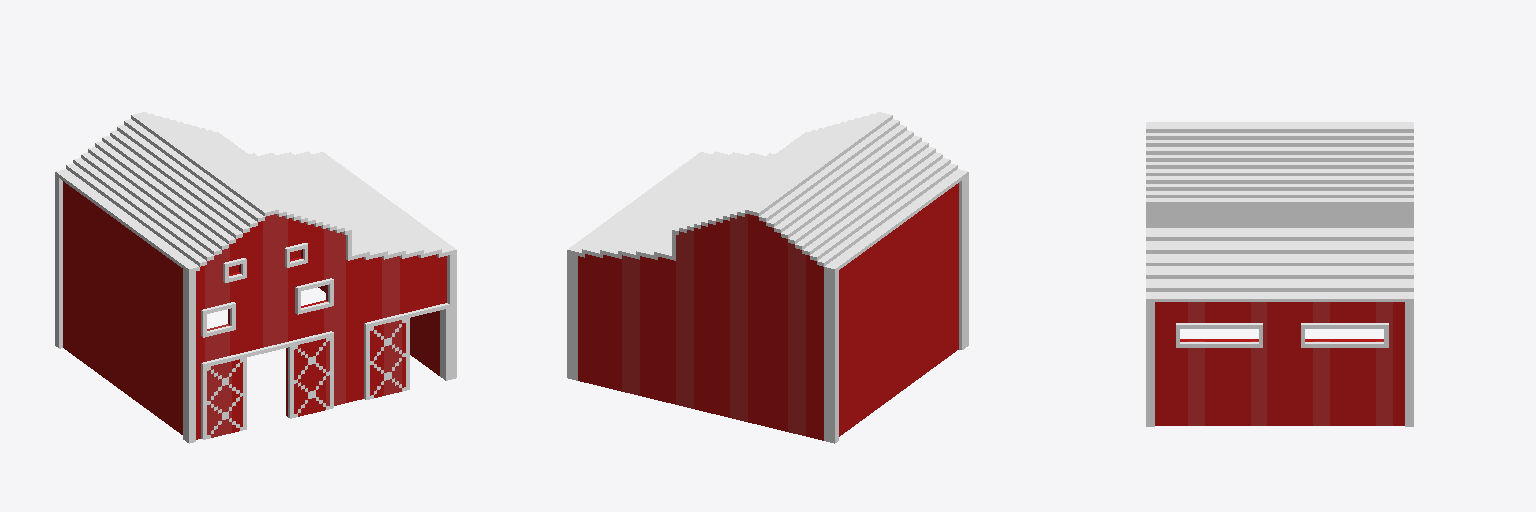
3 renders of one model, left to right at view 1: azimuth 30°, elevation 25°; view 2: azimuth 150°, elevation 25°; view 3: azimuth 270°, elevation 25°, orthographic.
Visible parts, largest first — view 1: bodega; view 2: bodega; view 3: bodega.
Part boxes in pixels (bbox=[...]): bodega: bbox=[55, 112, 456, 443]; bodega: bbox=[567, 112, 968, 443]; bodega: bbox=[1146, 122, 1413, 426].
Size of the model in its own units: 7.4 by 5.6 by 6.4.
1 materials, 1 textured.